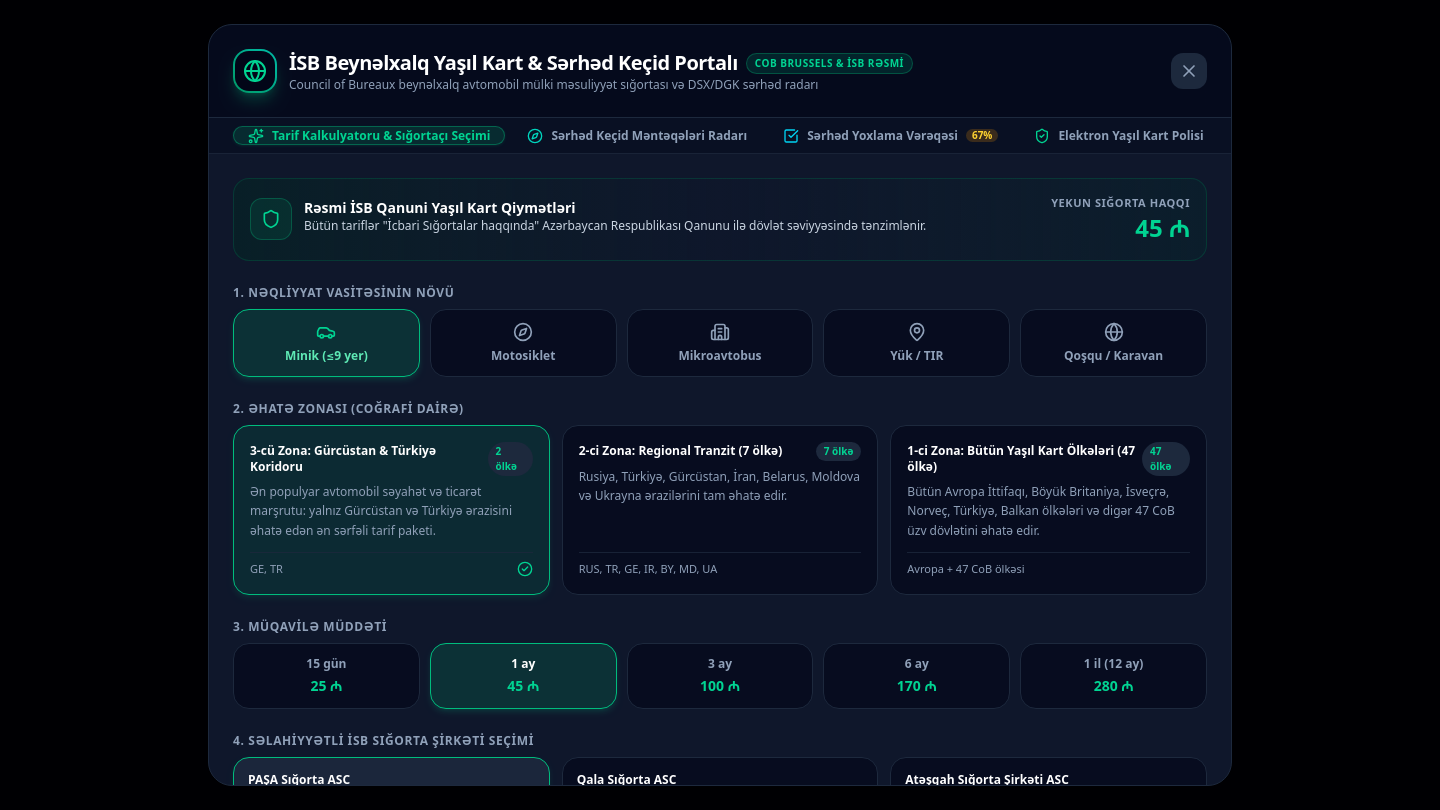
GreenCardModal Component › updates pricing when selecting different vehicle categories and zones
Expected: the text "45 ₼" below "Yekun Sığorta Haqqı" is shown, [1135,211,1190,244]
# Click on 15_days duration
Click the text "15 gün" at (326, 664), box [306,656,346,672]
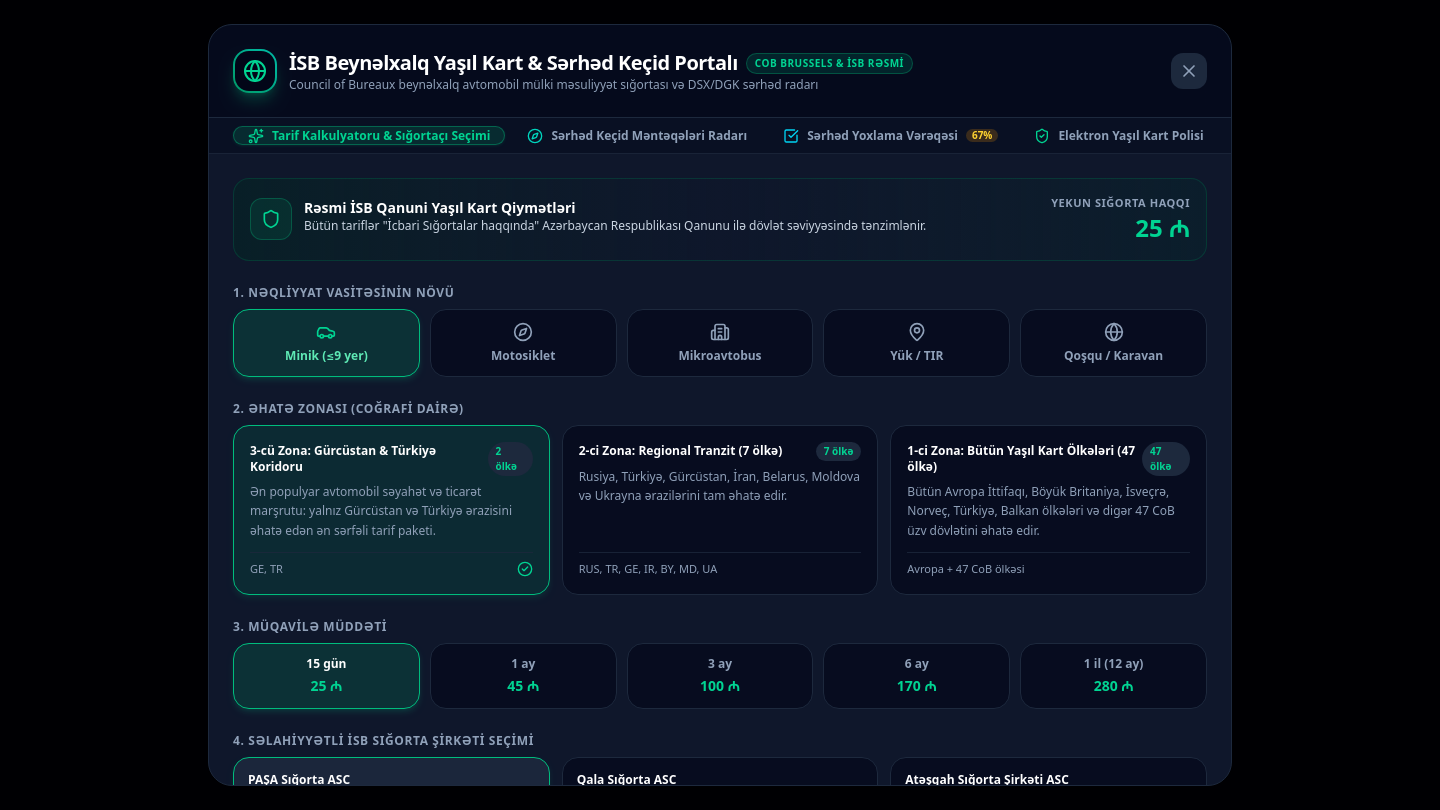
Result: the text "25 ₼" below "Yekun Sığorta Haqqı" is shown at [1135,211,1190,244]
# Select motorcycle category
Click the button "Motosiklet" at (523, 343), box [430,309,617,377]
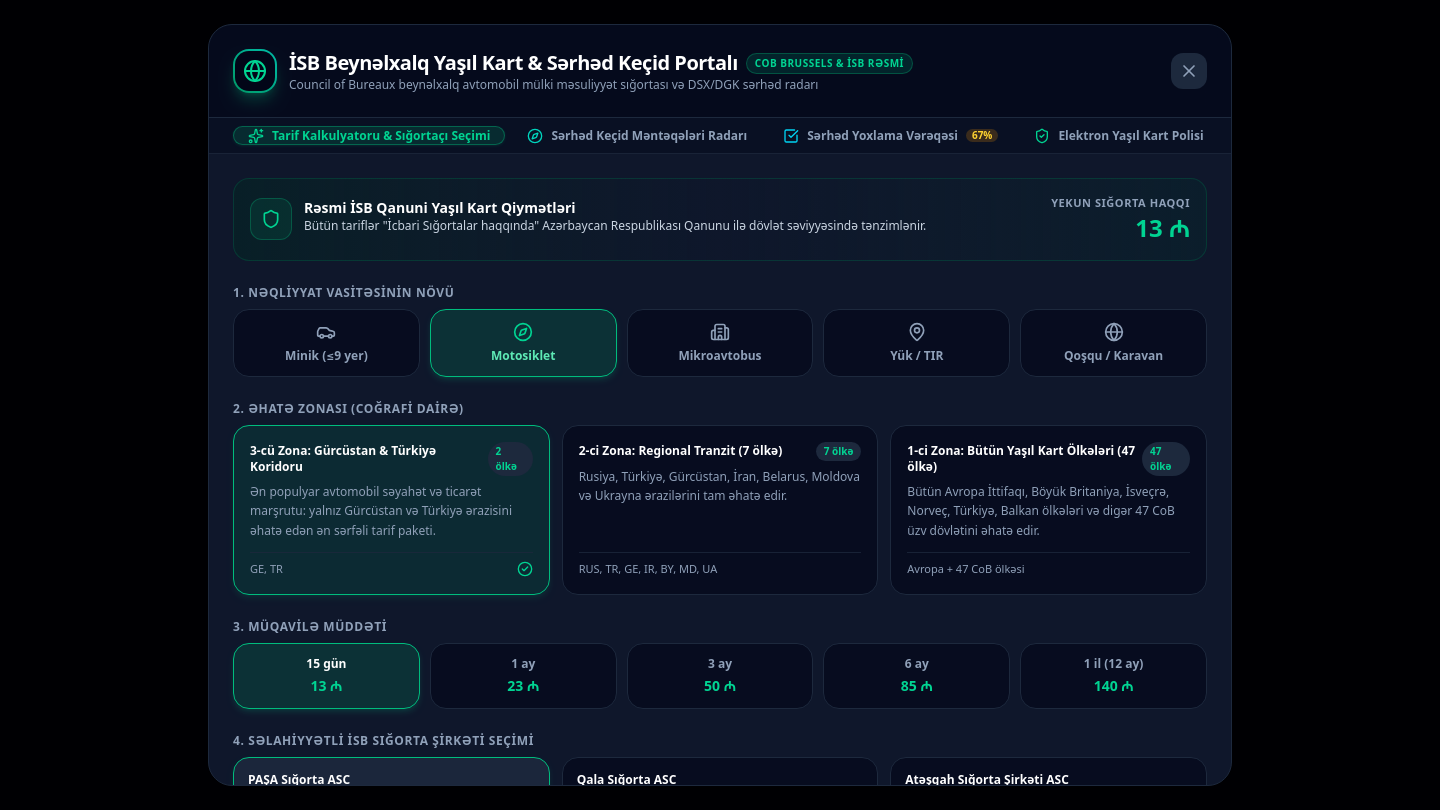
Result: the text "13 ₼" below "Yekun Sığorta Haqqı" is shown at [1135,211,1190,244]
